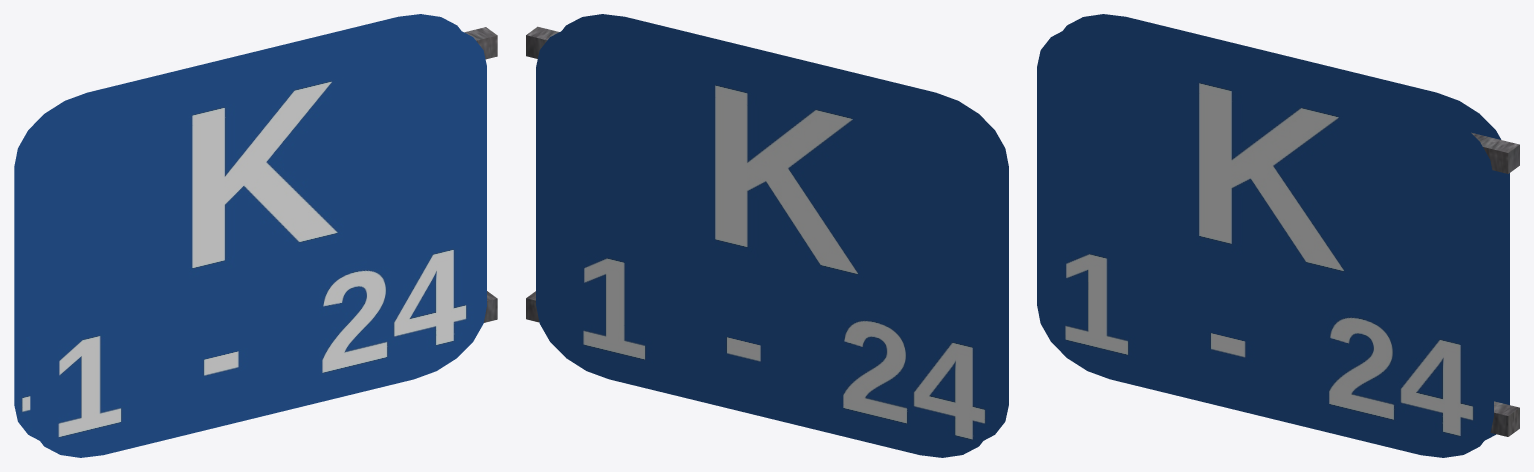
3 views of the same model, side by side, from view 1: azimuth 30°, elevation 25°; view 2: azimuth 150°, elevation 25°; view 3: azimuth 330°, elevation 25° (orthographic).
Visible parts, largest first — view 1: Cube; view 2: Cube; view 3: Cube.
Boxes of the visible parts, <box> form: Cube: <box>14,14,497,457</box>; Cube: <box>526,14,1008,457</box>; Cube: <box>1037,14,1519,457</box>.
Size of the model in its own units: 0.9334 by 0.667 by 0.055.
Materials: 2 (2 with a texture image).
